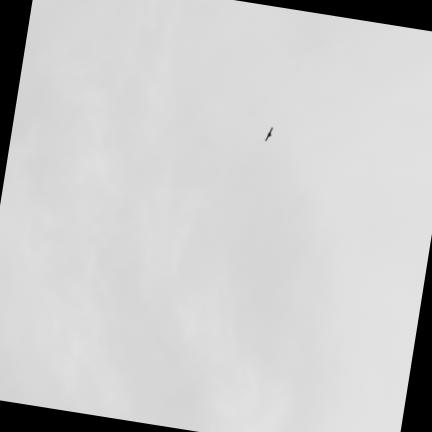Shahed: (264, 128, 272, 140)
